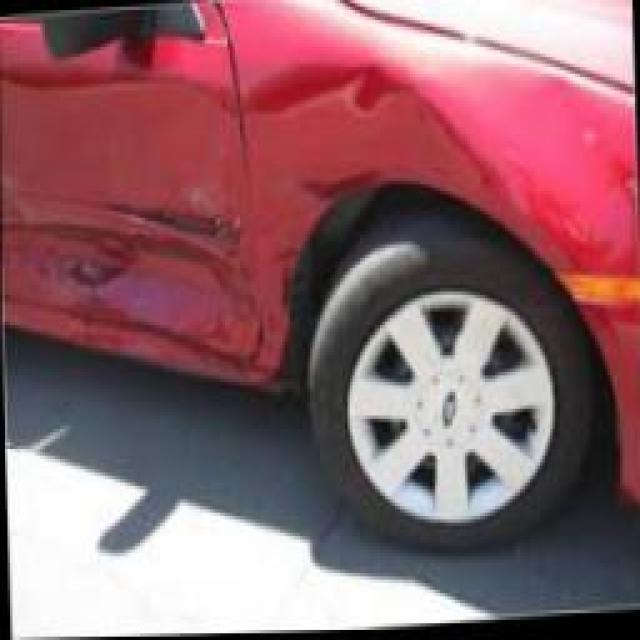rapairable: (267, 70, 494, 190)
replaceable: (22, 178, 282, 364)
